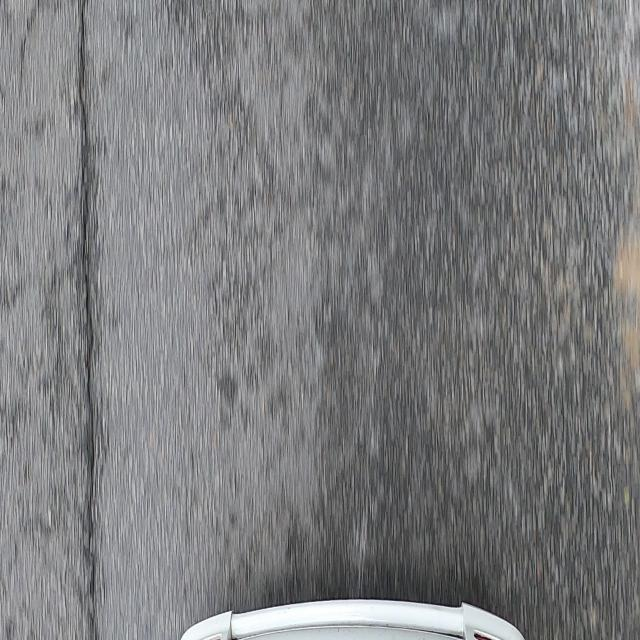Retak-Memanjang: (79, 0, 97, 638)
